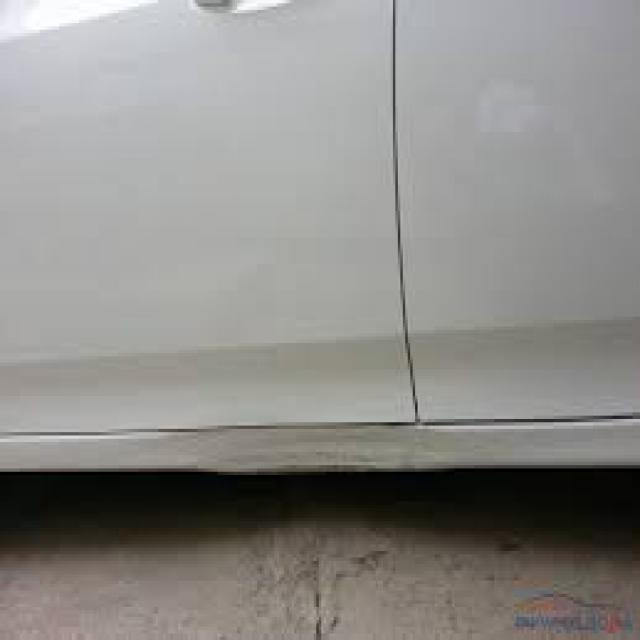RunningBoard-Dent: (154, 419, 443, 465)
